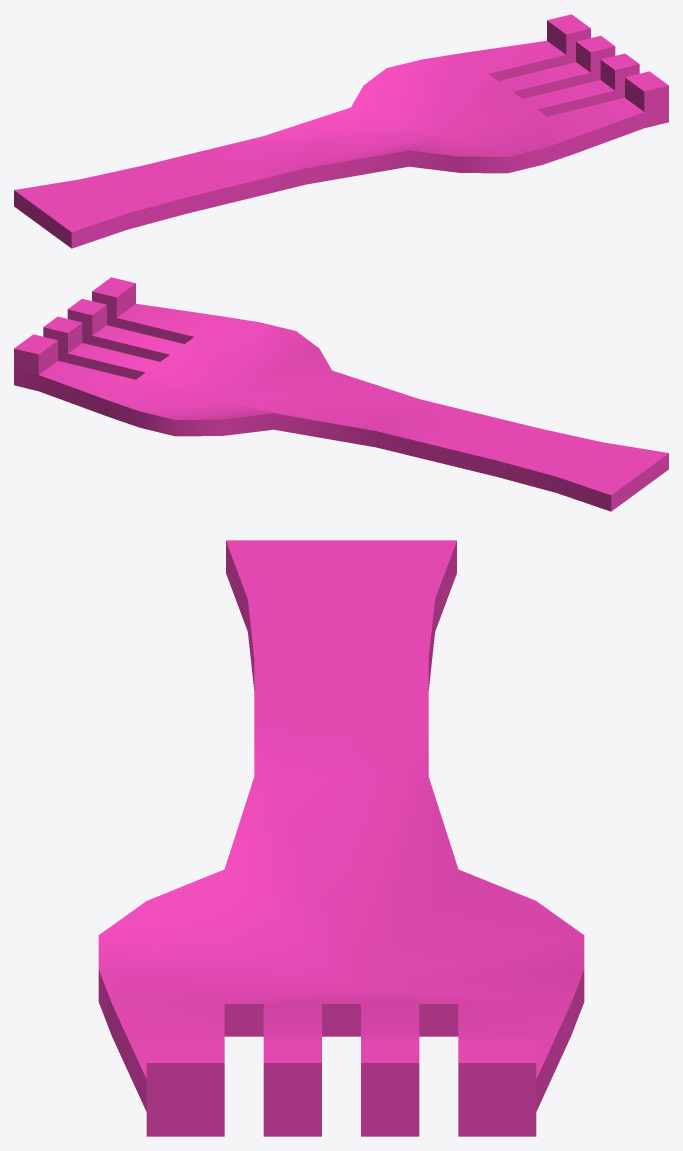
File: MOD_fourchettesable.FBX
The picture shows the model from 3 angles, top to bottom: view 1: azimuth 30°, elevation 25°; view 2: azimuth 150°, elevation 25°; view 3: azimuth 270°, elevation 25°; orthographic projection. The views are drawn at different scales.
Parts seen in each view (by area): view 1: Plane003; view 2: Plane003; view 3: Plane003.
Part boxes in pixels (x1,y1,x2,y2): Plane003: (14, 14, 668, 248); Plane003: (14, 277, 668, 511); Plane003: (98, 540, 584, 1136).
Bounding box in the file's own units: 0.4122 × 0.0418 × 0.1501.
